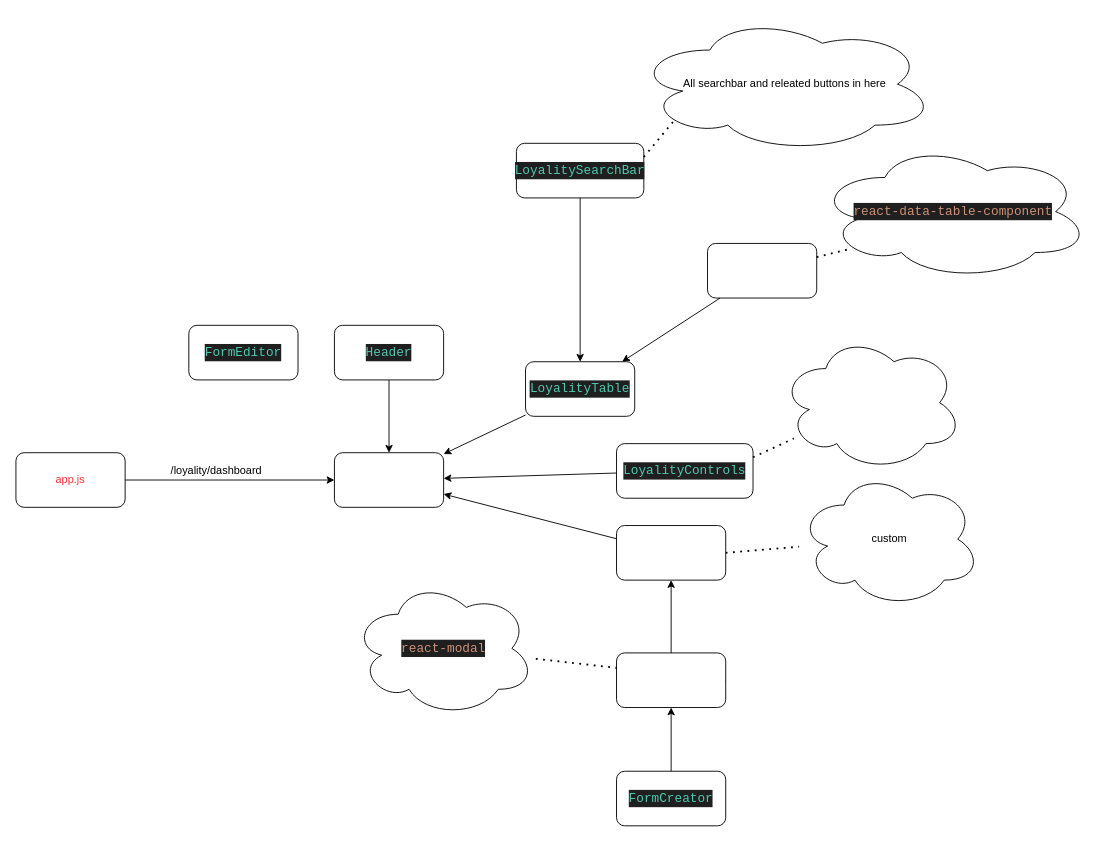
Some shapes in this 1106 by 842 pixel diagram are drawn without their labels. The centre of each missing label's shape, as x and y in pixels:
"All left side buttons" belongs at (870,402).
"DataTable" belongs at (762,270).
"LoyalityDash" belongs at (389,479).
"Modal" belongs at (671,680).
"Popup" belongs at (671,552).
